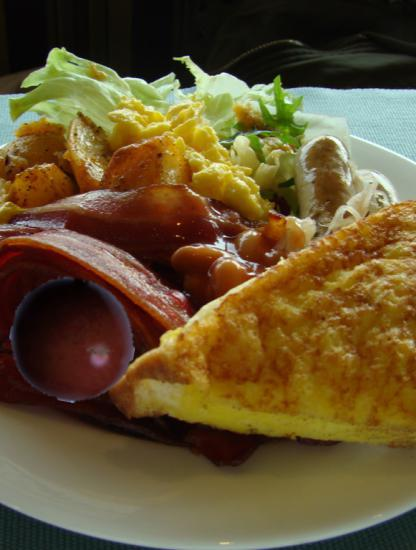Tamarillo: (10, 276, 136, 402)
